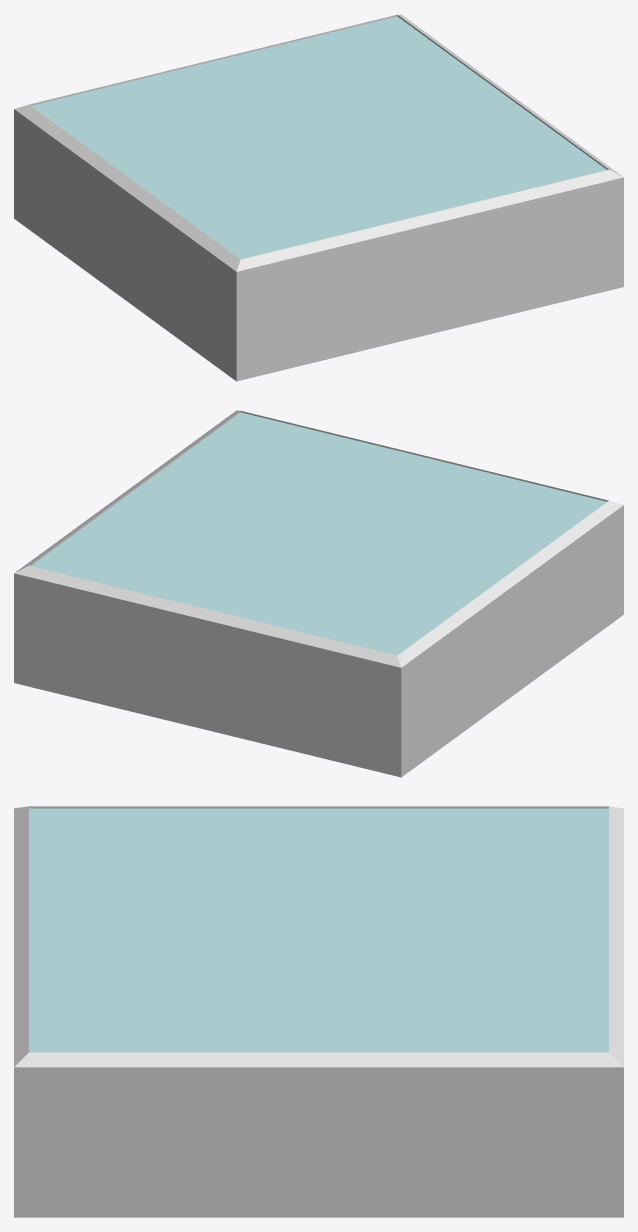
The model's file is tutorial room with boxes.fbx.
3 views of the same model, one above another, from view 1: azimuth 30°, elevation 25°; view 2: azimuth 150°, elevation 25°; view 3: azimuth 270°, elevation 25° (orthographic). The views are drawn at different scales.
Visible parts, largest first — view 1: pCube1, pCube3; view 2: pCube1, pCube3; view 3: pCube3, pCube1.
Boxes of the visible parts, x1=… form: pCube1: x1=14, y1=14, x2=623, y2=381; pCube3: x1=31, y1=16, x2=606, y2=259; pCube1: x1=14, y1=410, x2=623, y2=777; pCube3: x1=31, y1=412, x2=606, y2=655; pCube3: x1=29, y1=808, x2=608, y2=1052; pCube1: x1=14, y1=806, x2=623, y2=1217.
Bounding box in the file's own units: 311 × 88.75 × 310.
